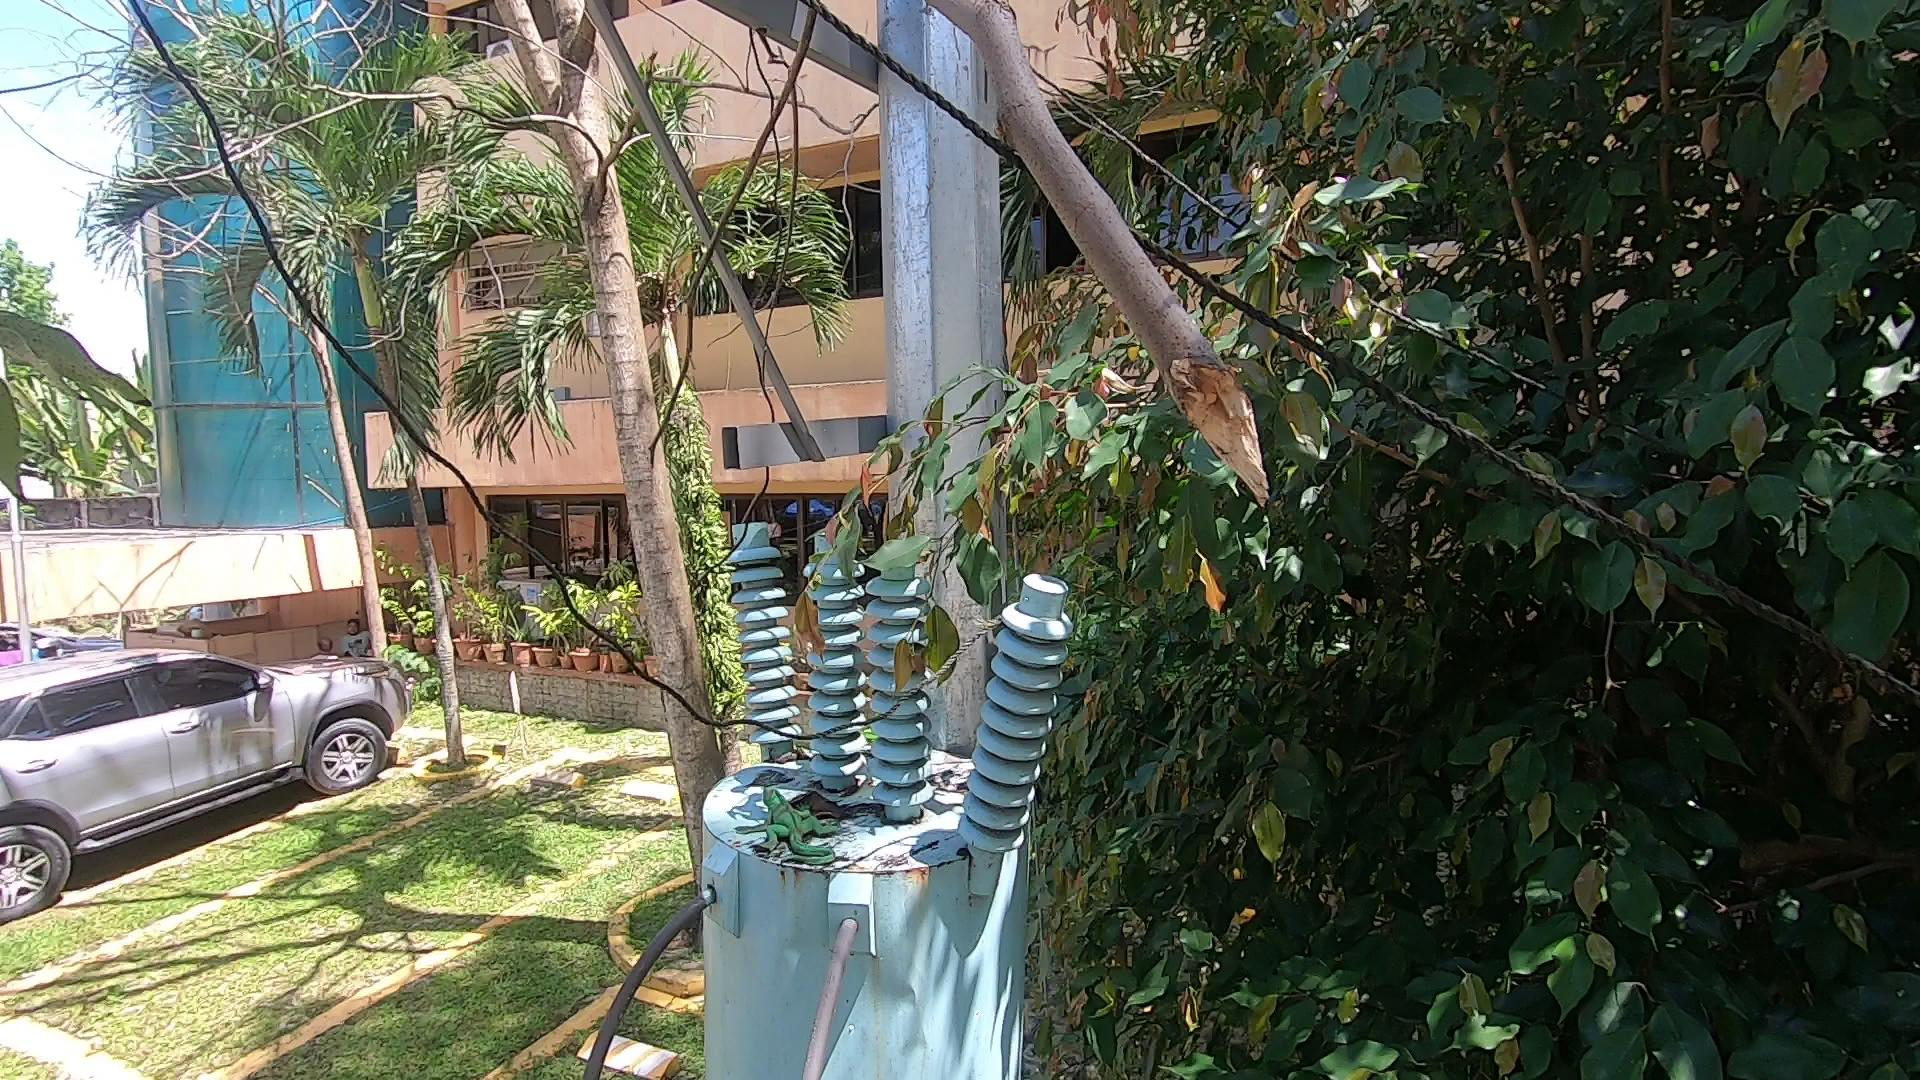leaf: (684, 411, 1081, 686), (783, 782, 899, 837), (916, 757, 978, 790), (758, 745, 812, 771)
tree branch: (918, 26, 1312, 541)
